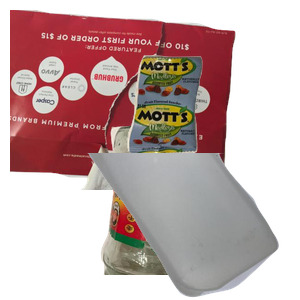glass: (98, 120, 286, 300)
paper: (10, 10, 238, 190)
plastic: (84, 153, 300, 300)
trash: (125, 53, 300, 201)
